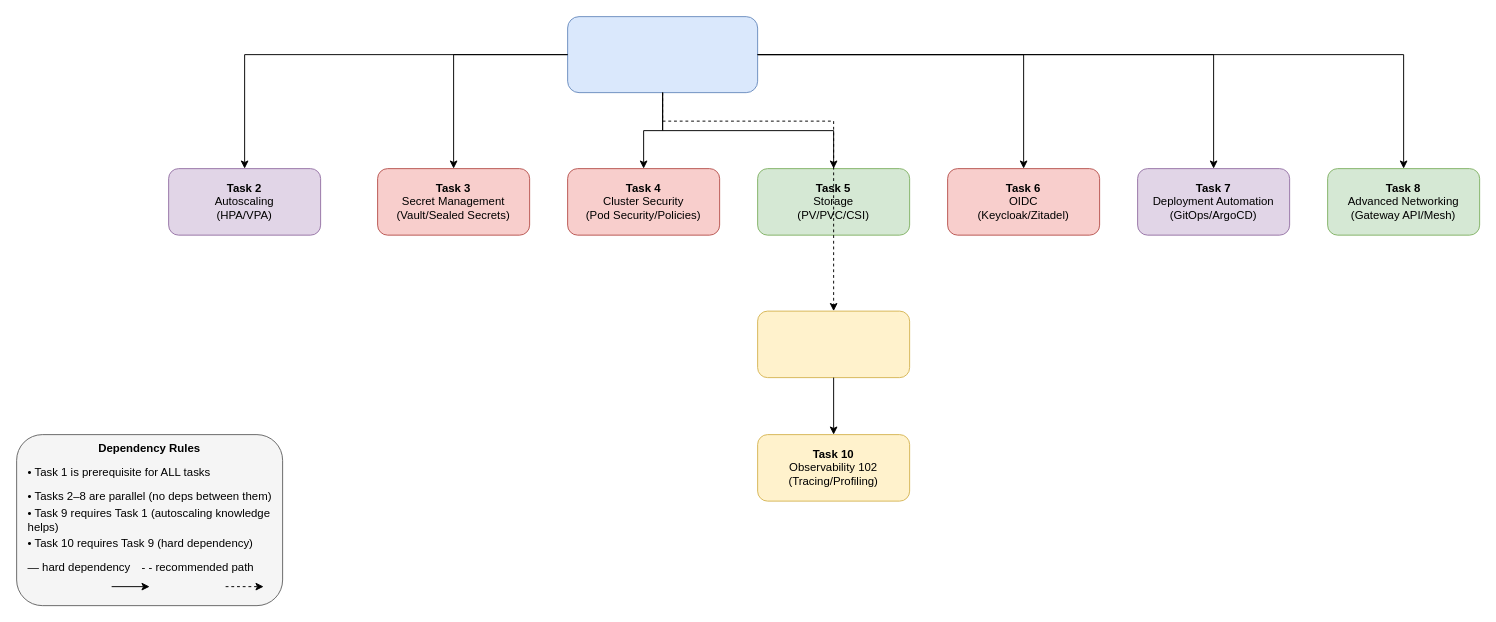
This 1496x622 diagram has some shape labels left out. Each missing label, with the box of its shape:
Task 1 Docker & K8s Basics Ingress & Registry (Foundation for all tracks): (567, 16, 758, 93)
Task 9 Observability 101 (Metrics/Logs/Alerting): (757, 310, 910, 378)
